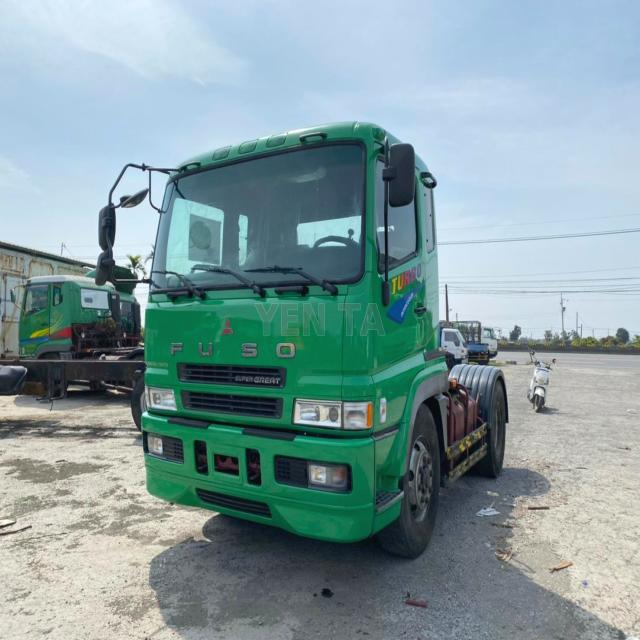truck: (97, 121, 508, 545), (14, 265, 152, 417)
